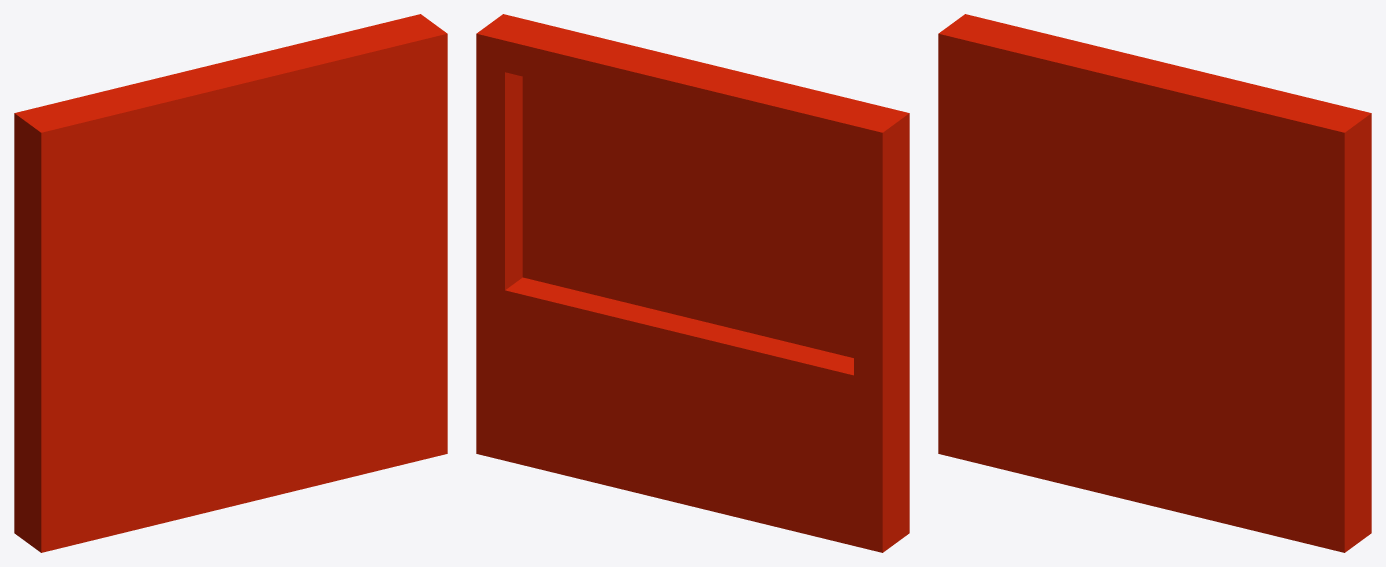
The model's file is paper.fbx.
The picture shows the model from 3 angles, left to right: view 1: azimuth 30°, elevation 25°; view 2: azimuth 150°, elevation 25°; view 3: azimuth 330°, elevation 25°; orthographic projection.
Visible parts, largest first — view 1: Cube.003; view 2: Cube.003; view 3: Cube.003.
Part boxes in pixels (x1,y1,x2,y2): Cube.003: [14, 14, 447, 552]; Cube.003: [476, 14, 909, 552]; Cube.003: [938, 14, 1371, 552].
Bounding box in the file's own units: 53.79 × 53.15 × 6.16.
